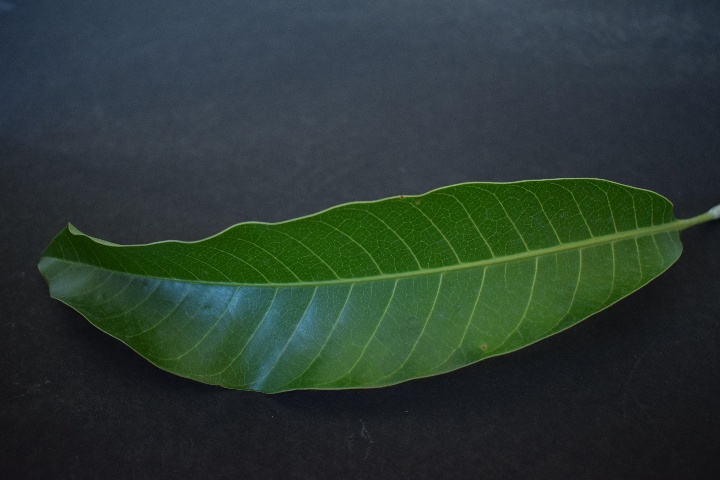healthy: (71, 175, 684, 391)
